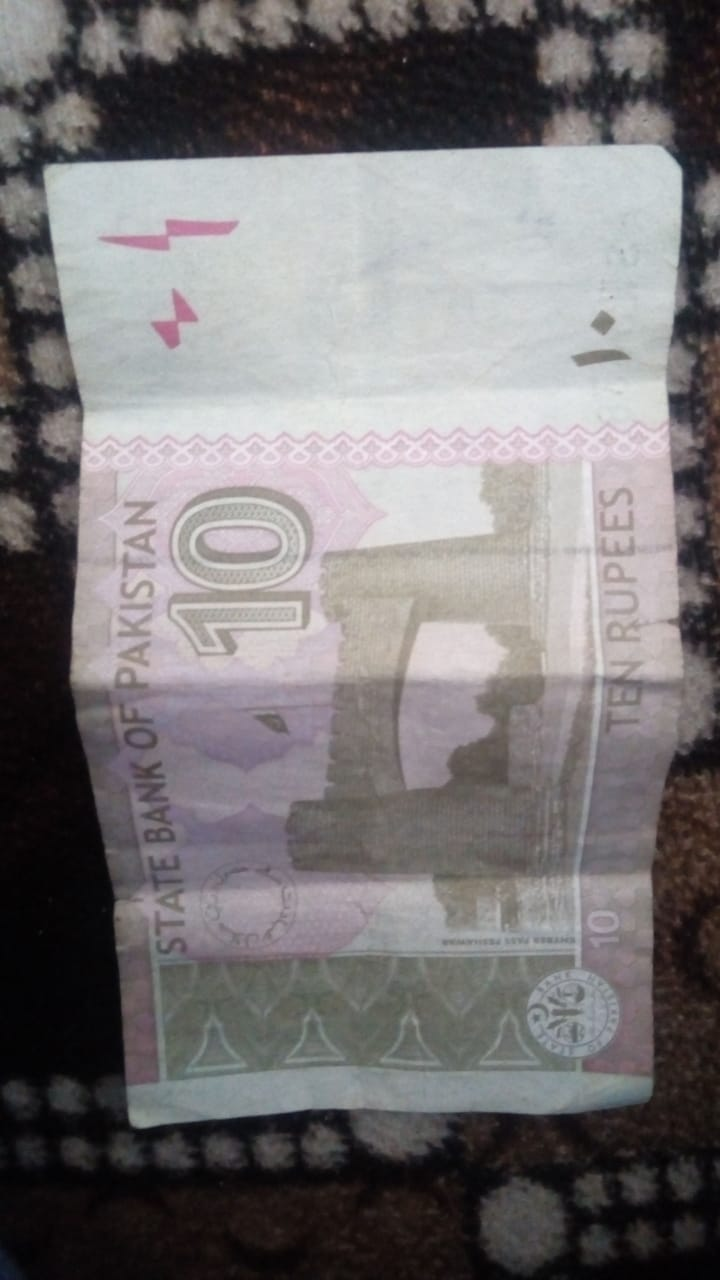10 rupee: (55, 139, 665, 1122)
